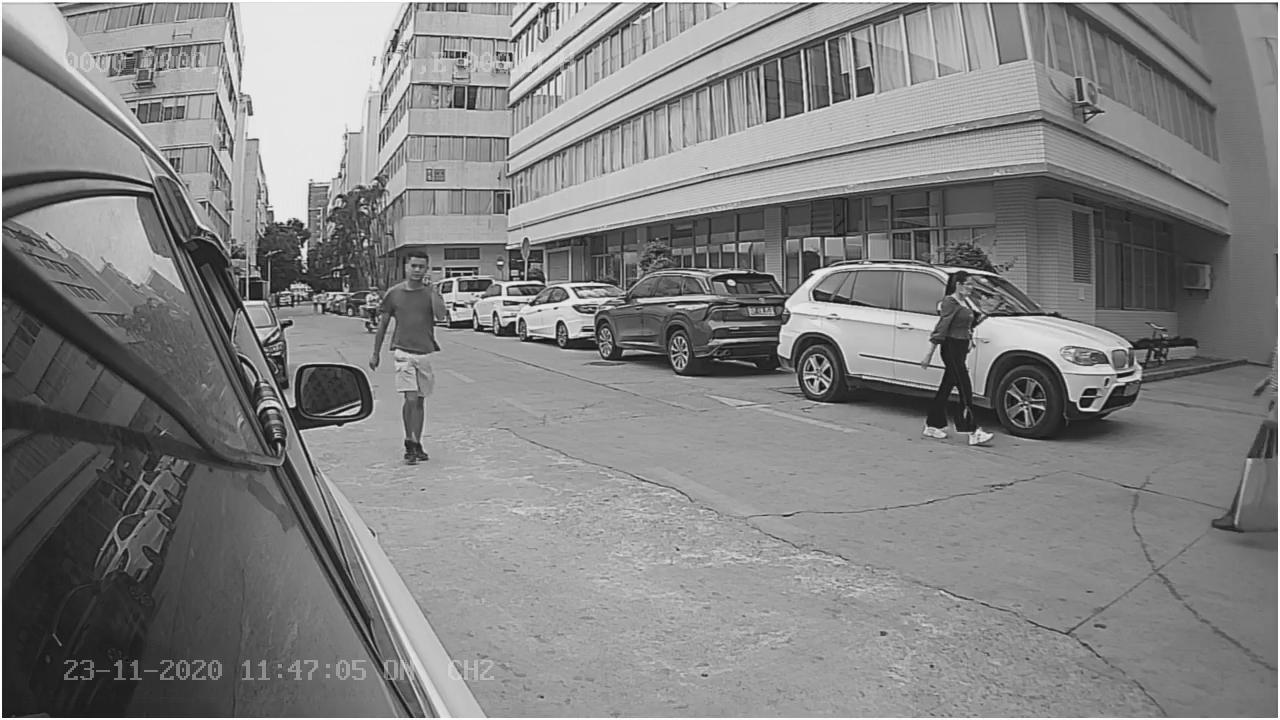person: (372, 233, 450, 469), (916, 266, 995, 452)
